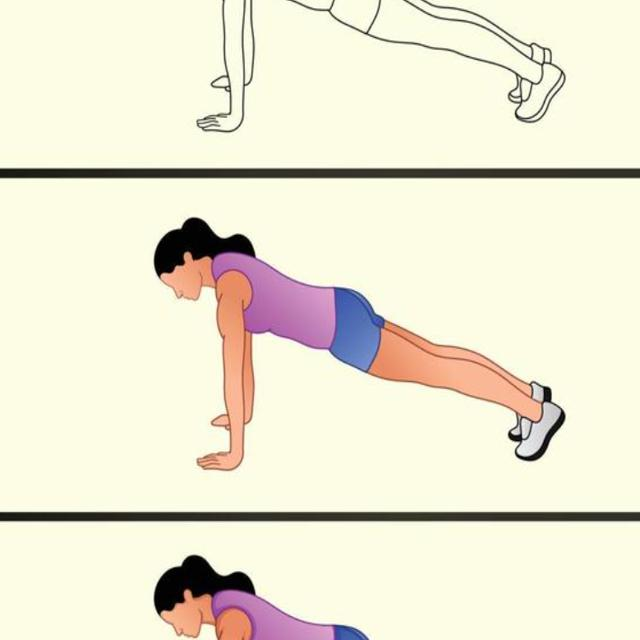Plank_Pose: (151, 217, 569, 475)
